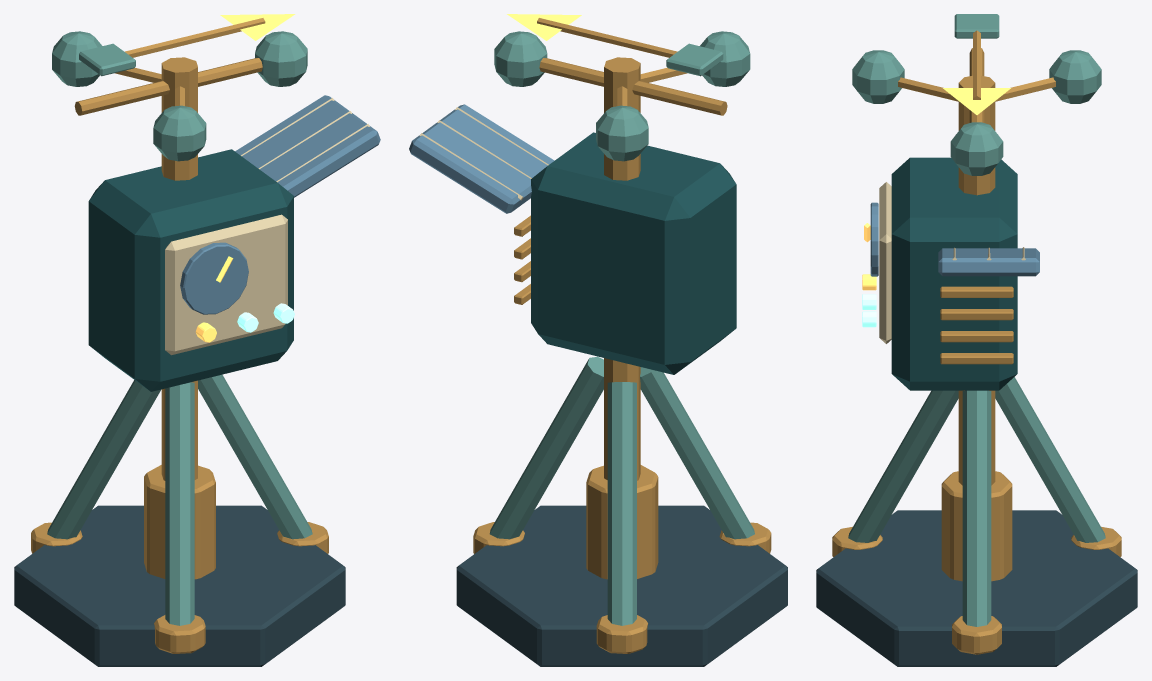
The model's file is station.glb.
3 views of the same model, side by side, from view 1: azimuth 30°, elevation 25°; view 2: azimuth 150°, elevation 25°; view 3: azimuth 270°, elevation 25° (orthographic). The views are drawn at different scales.
Parts seen in each view (by area): view 1: Instrument foundation, Weather instrument body, Ivory face border, Side solar panel, Tripod leg 2, Tripod leg 0, Tripod leg 1, Brass central pedestal, Round mechanical instrument face, Upper weather mast, Faceted wind sensor cup 2, Anemometer crossbar (+8 smaller); view 2: Weather instrument body, Instrument foundation, Side solar panel, Tripod leg 1, Tripod leg 0, Tripod leg 2, Brass central pedestal, Upper weather mast, Anemometer crossbar, Faceted wind sensor cup 1, Faceted wind sensor cup 0, Faceted wind sensor cup 2 (+6 smaller); view 3: Instrument foundation, Weather instrument body, Tripod leg 0, Tripod leg 1, Tripod leg 2, Brass central pedestal, Side solar panel, Upper weather mast, Faceted wind sensor cup 0, Faceted wind sensor cup 1, Faceted wind sensor cup 2, Ivory face border (+13 smaller).
Part boxes in pixels (bbox=[...]): Instrument foundation: bbox=[14, 505, 345, 666]; Weather instrument body: bbox=[88, 149, 293, 391]; Ivory face border: bbox=[165, 214, 287, 355]; Side solar panel: bbox=[235, 95, 380, 197]; Tripod leg 2: bbox=[165, 382, 194, 625]; Tripod leg 0: bbox=[198, 374, 312, 539]; Tripod leg 1: bbox=[47, 380, 160, 539]; Brass central pedestal: bbox=[144, 465, 215, 579]; Round mechanical instrument face: bbox=[180, 242, 248, 314]; Upper weather mast: bbox=[161, 57, 197, 480]; Faceted wind sensor cup 2: bbox=[153, 105, 206, 161]; Anemometer crossbar: bbox=[74, 58, 262, 115]; Weather instrument body: bbox=[531, 132, 736, 374]; Instrument foundation: bbox=[456, 505, 787, 666]; Side solar panel: bbox=[409, 104, 554, 213]; Tripod leg 1: bbox=[607, 382, 636, 625]; Tripod leg 0: bbox=[489, 356, 603, 539]; Tripod leg 2: bbox=[640, 367, 754, 539]; Brass central pedestal: bbox=[586, 465, 658, 579]; Upper weather mast: bbox=[604, 57, 640, 480]; Anemometer crossbar: bbox=[539, 58, 727, 115]; Faceted wind sensor cup 1: bbox=[596, 105, 648, 161]; Faceted wind sensor cup 0: bbox=[494, 31, 547, 86]; Faceted wind sensor cup 2: bbox=[700, 31, 750, 86]; Instrument foundation: bbox=[816, 510, 1137, 666]; Weather instrument body: bbox=[891, 157, 1017, 390]; Tripod leg 0: bbox=[962, 390, 991, 626]; Tripod leg 1: bbox=[995, 377, 1105, 542]; Tripod leg 2: bbox=[848, 390, 958, 542]; Brass central pedestal: bbox=[941, 471, 1012, 581]; Side solar panel: bbox=[938, 248, 1039, 276]; Upper weather mast: bbox=[958, 75, 995, 485]; Faceted wind sensor cup 0: bbox=[950, 122, 1003, 175]; Faceted wind sensor cup 1: bbox=[1049, 50, 1101, 103]; Faceted wind sensor cup 2: bbox=[852, 50, 904, 103]; Ivory face border: bbox=[879, 182, 891, 343].
Size of the model in its own units: 0.8502 by 1.5 by 0.7907.
